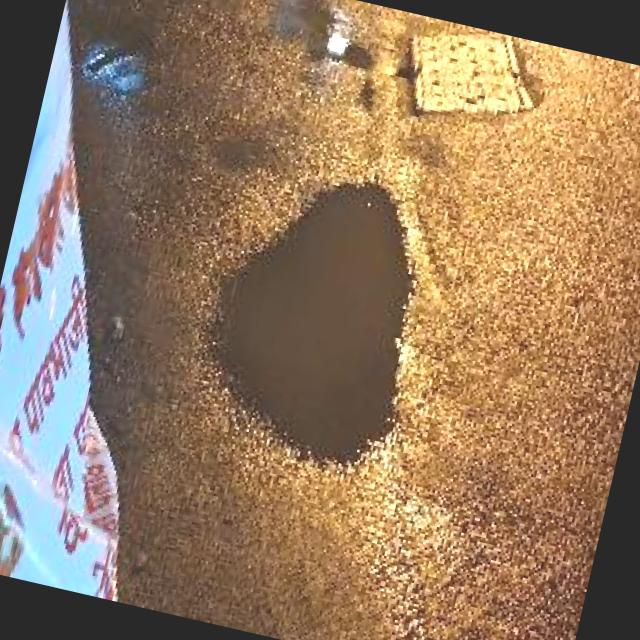waterlogging: (188, 167, 462, 488)
